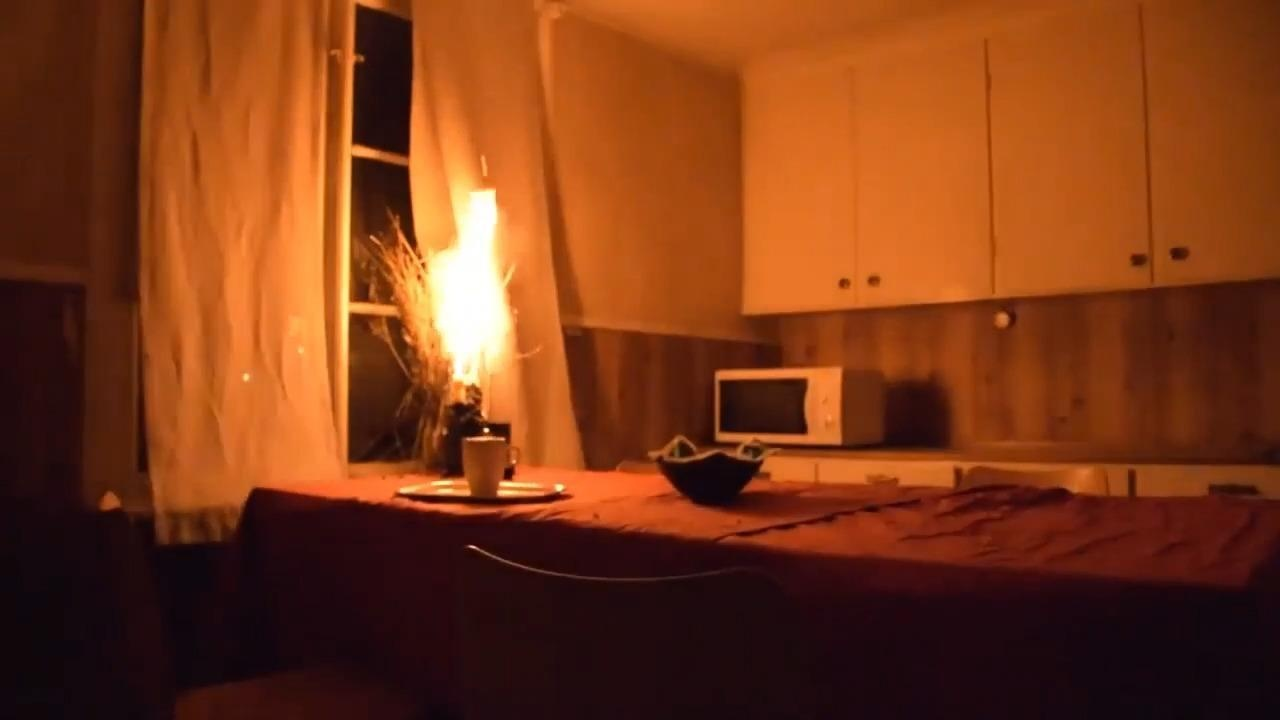fire: (382, 163, 543, 416)
